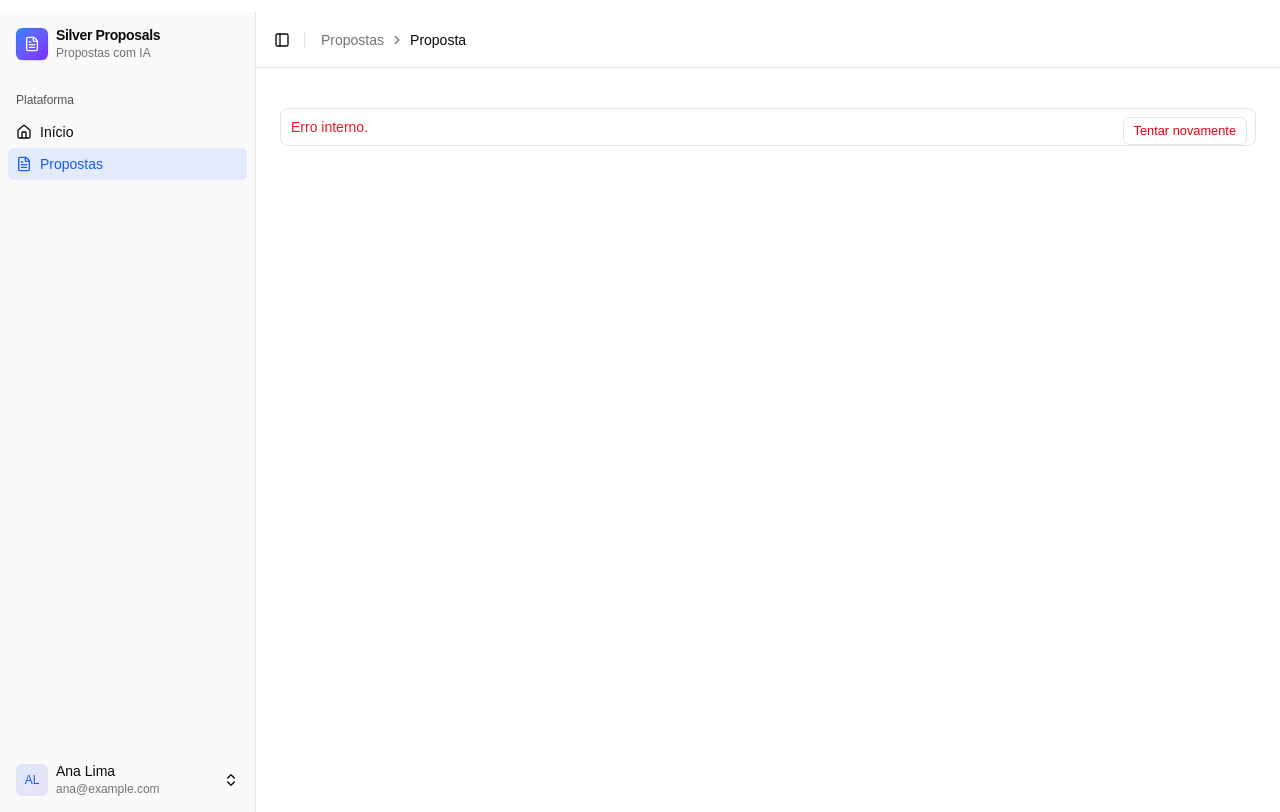
Scenario: ProposalPage › shows other errors with a retry
Expected: the text "Erro interno." is shown, [291,119,368,135]
Click the button "Tentar novamente". click: (1185, 131)
box: [1123,117,1247,145]
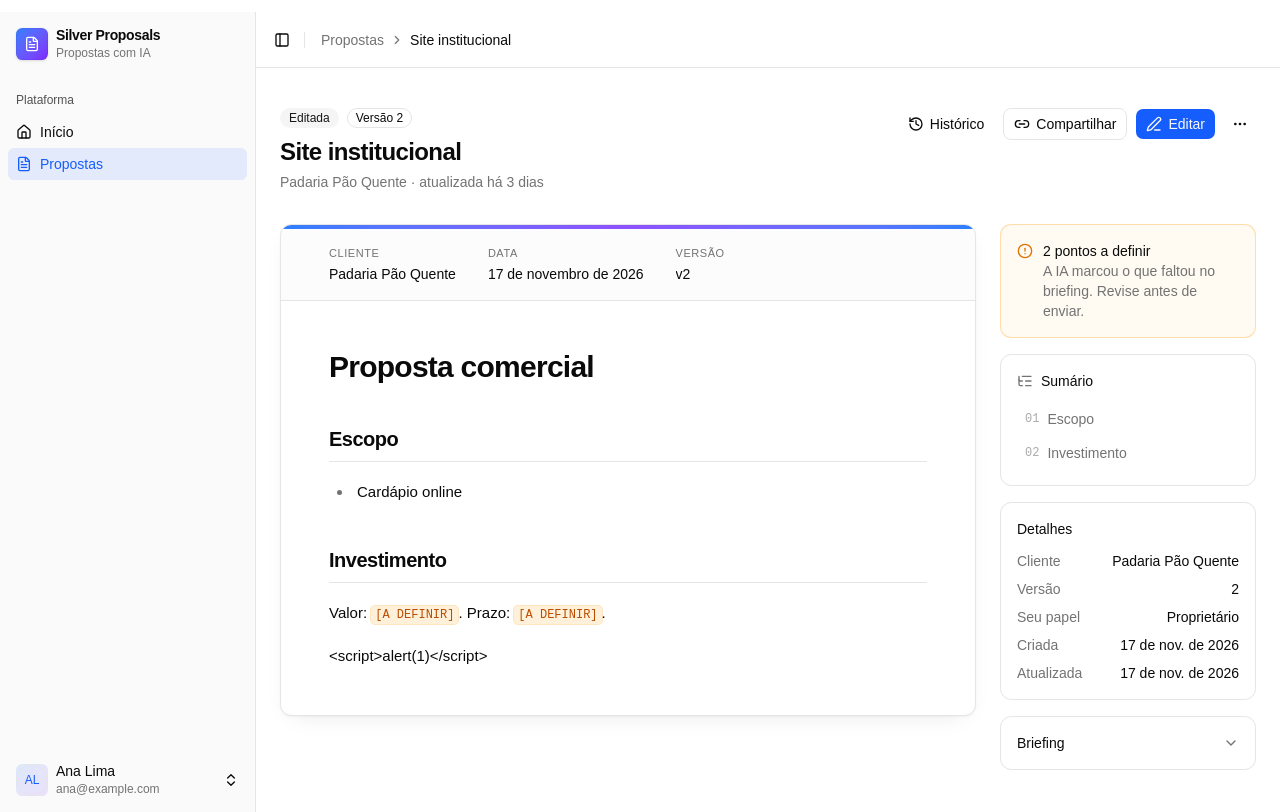
Now the heading "Site institucional" is shown, box [280,138,461,165]
